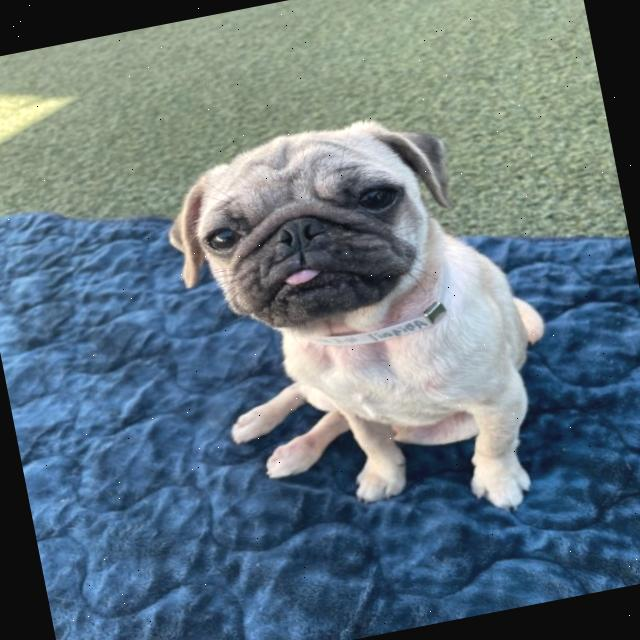pug_dog: (140, 96, 484, 362)
